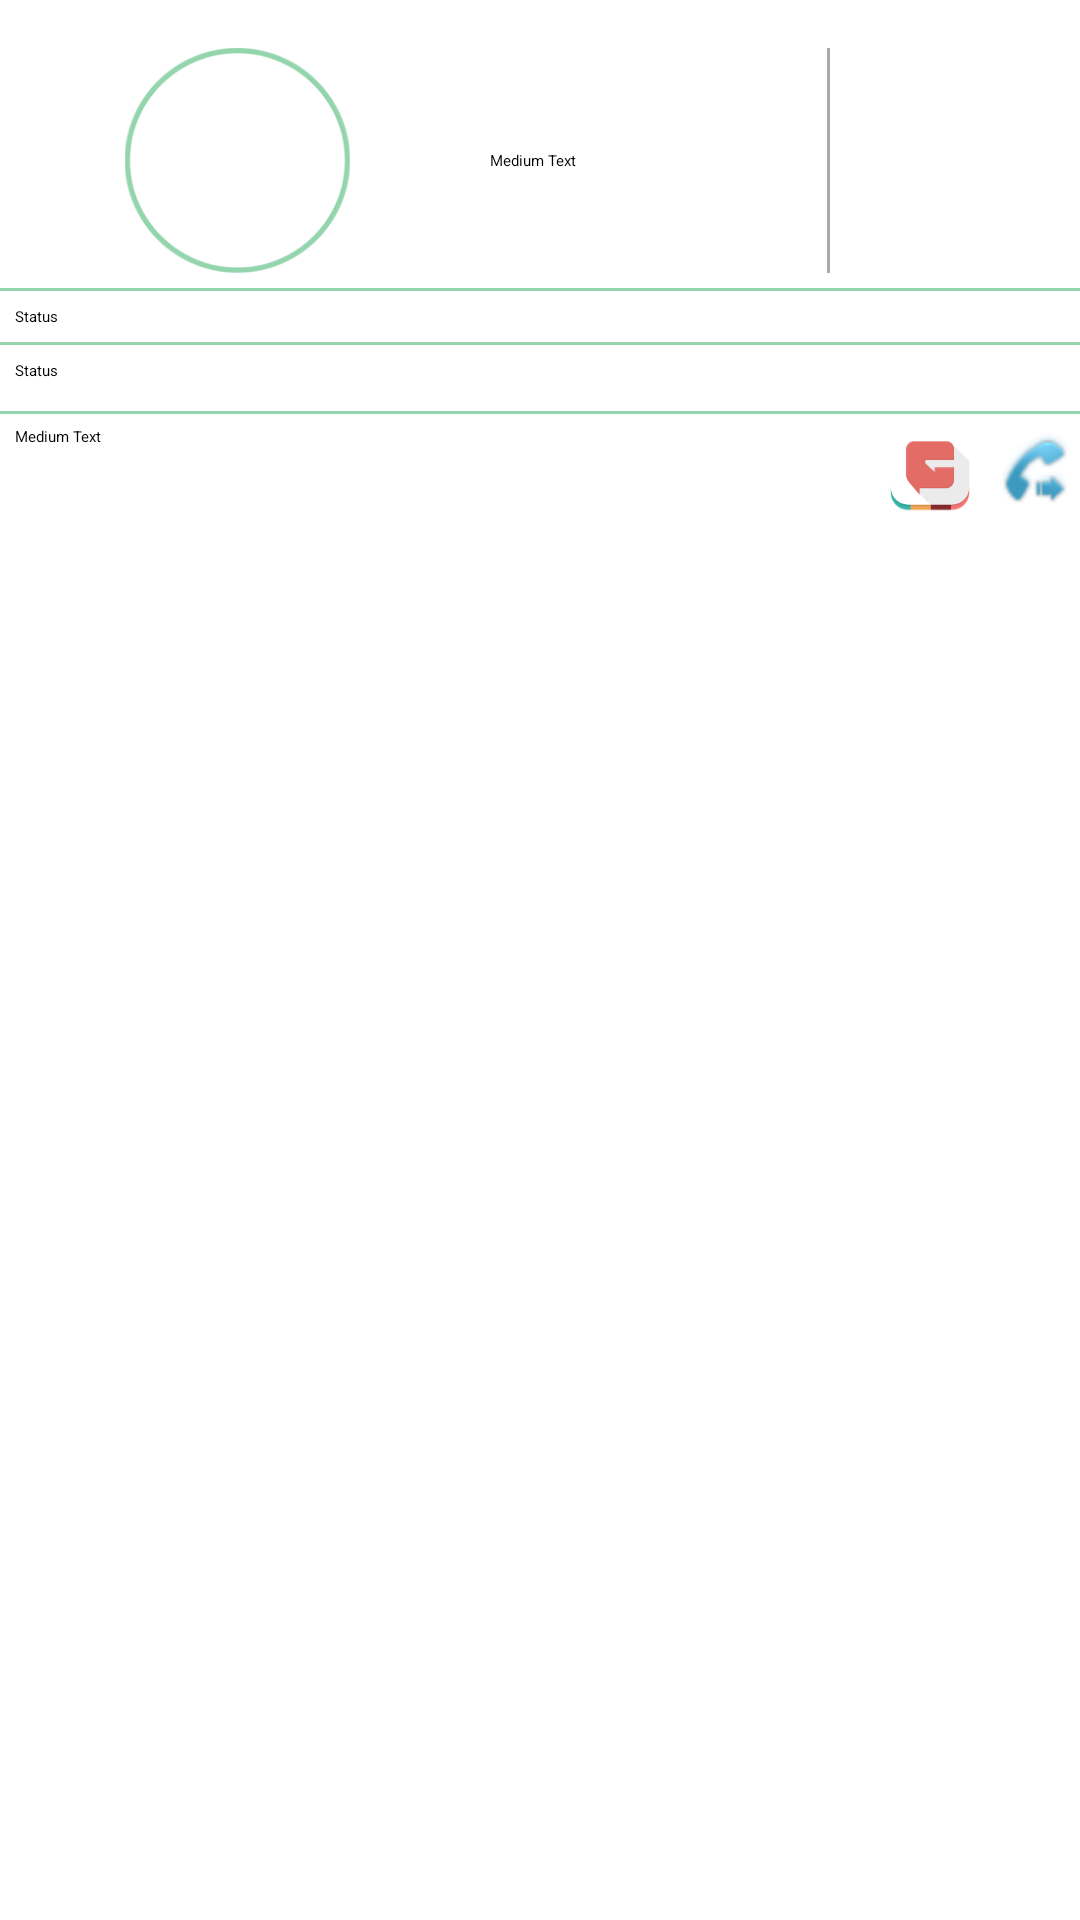

Named icons in this screenshot (1080px x 1920px) and their bounding boxes, (x1, y1, x2, y2):
phone call forward: (1004, 438, 1066, 501)
